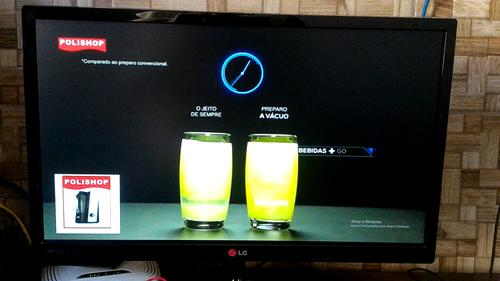Polishop #1: (53, 174, 120, 234)
